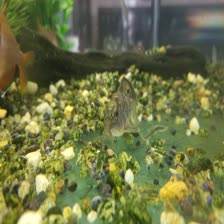Kiros: (92, 64, 165, 148)
